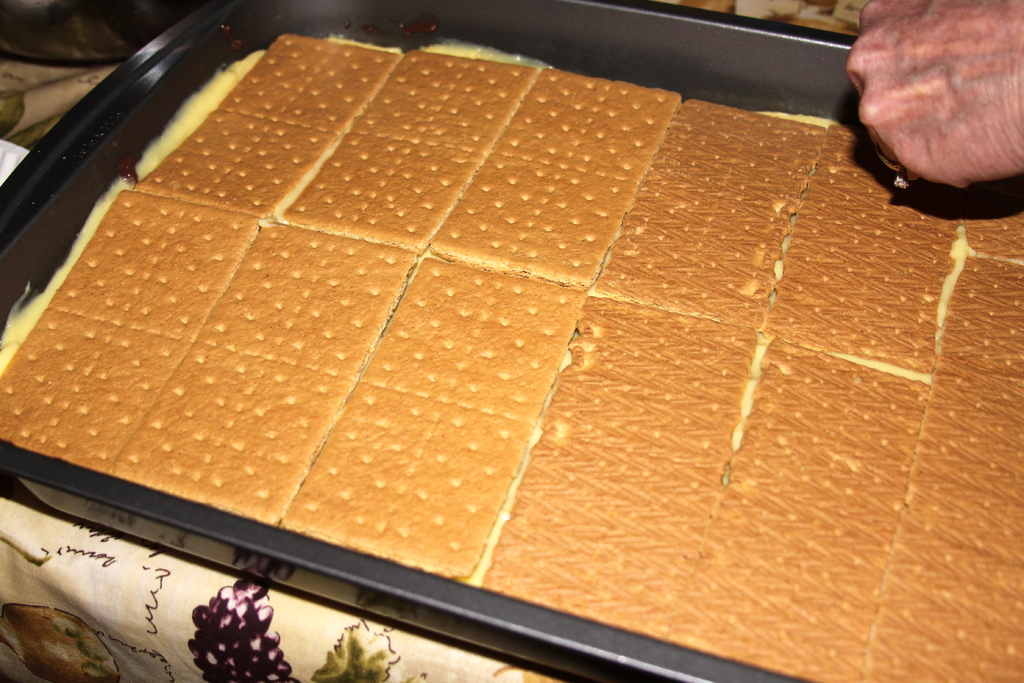Human_hand: (845, 0, 1023, 190)
